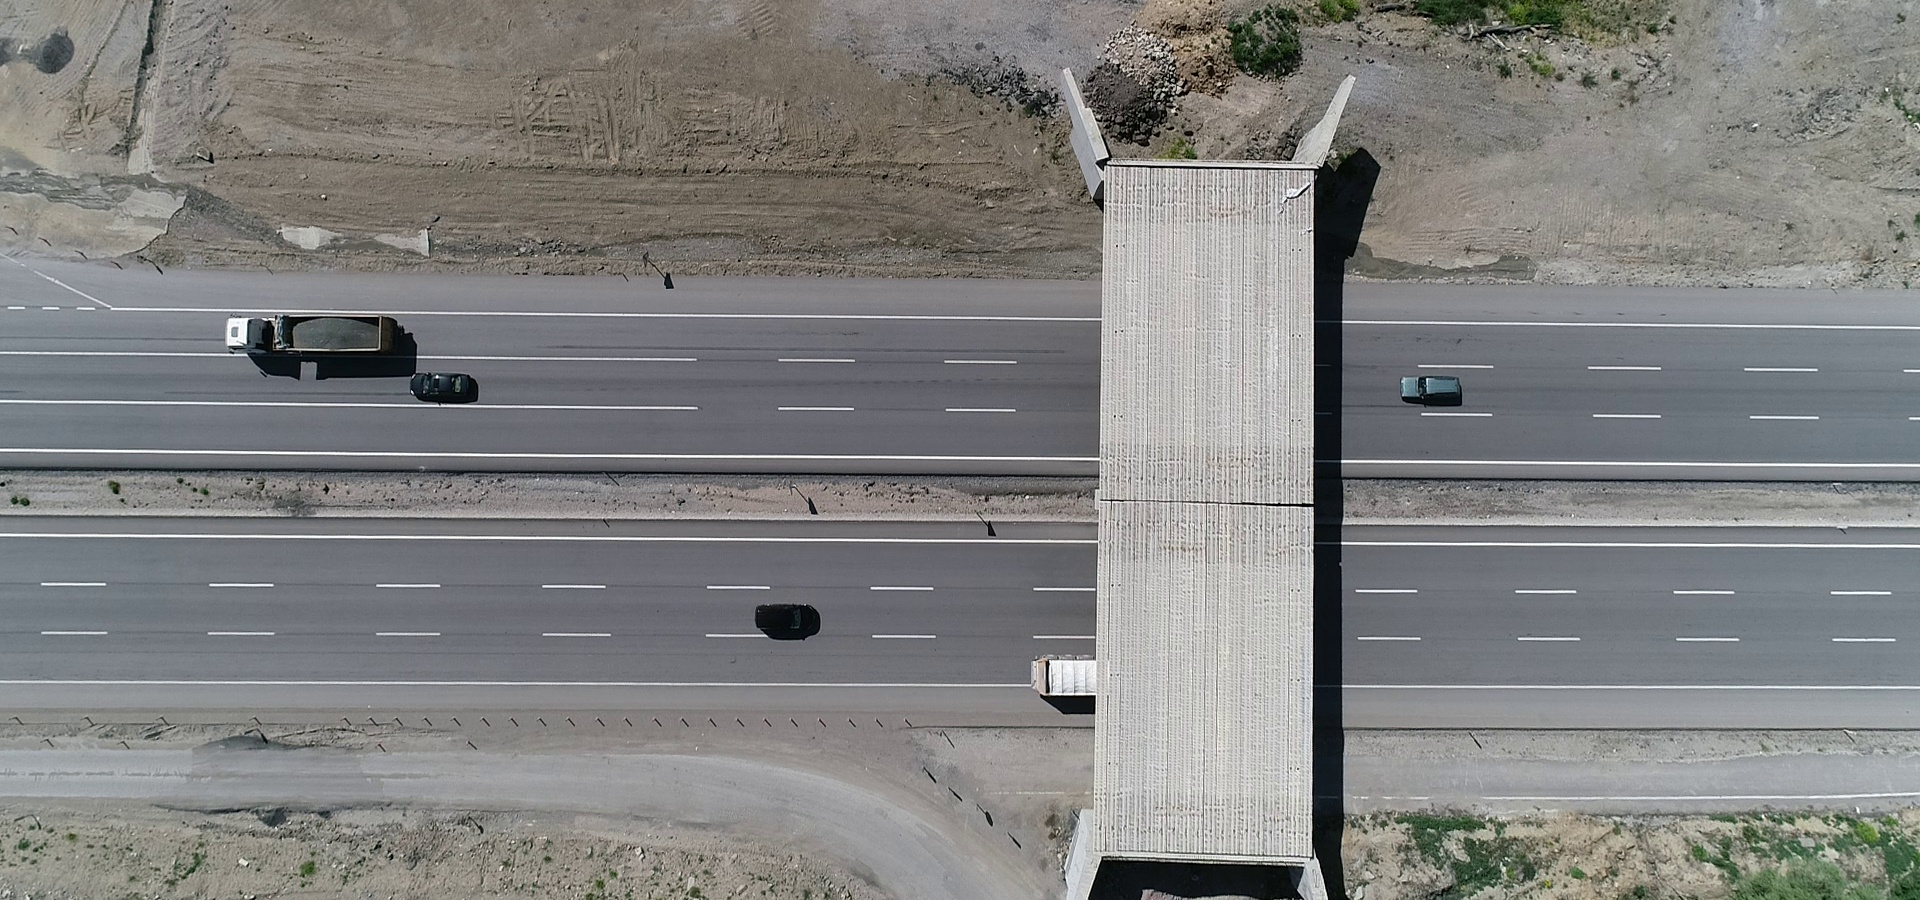araba: (751, 591, 841, 645), (403, 365, 487, 404), (1398, 371, 1469, 407)
kamyon: (216, 299, 411, 365), (1022, 640, 1100, 699)
